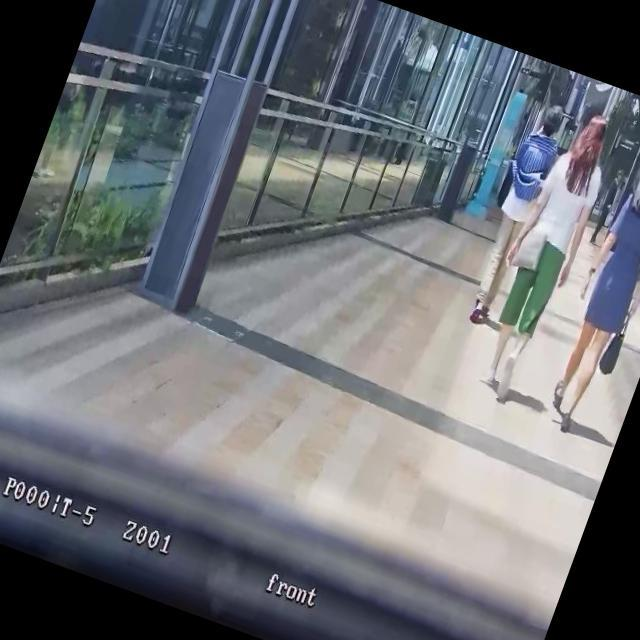person: (460, 100, 626, 410), (533, 145, 640, 442), (458, 98, 574, 328), (588, 168, 626, 246)
